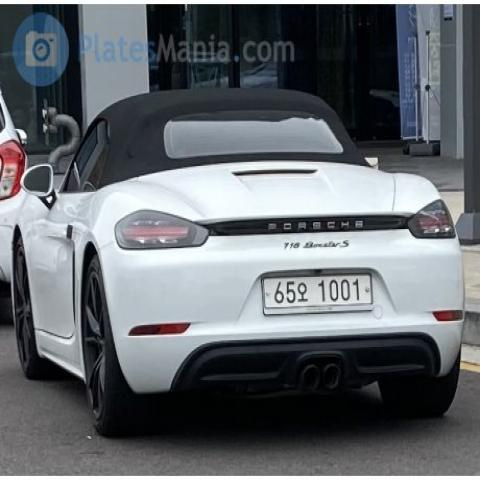LP: (256, 261, 380, 320)
